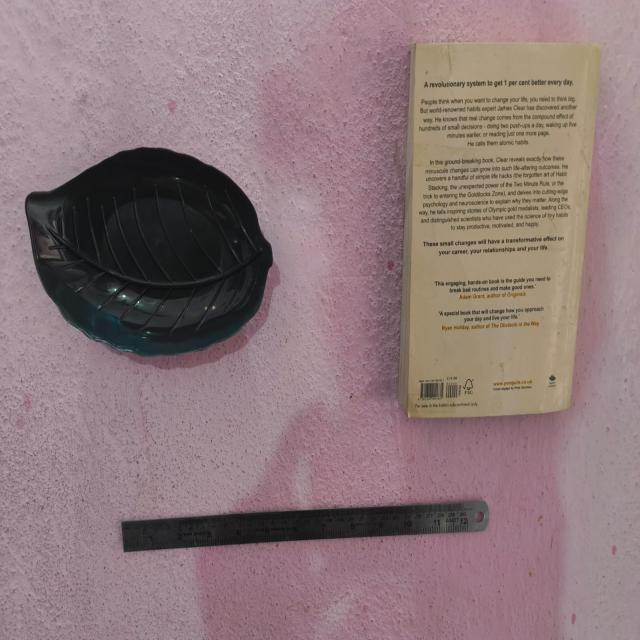Book: (398, 36, 608, 426)
pen: (23, 144, 276, 359)
plate: (115, 495, 494, 558)
